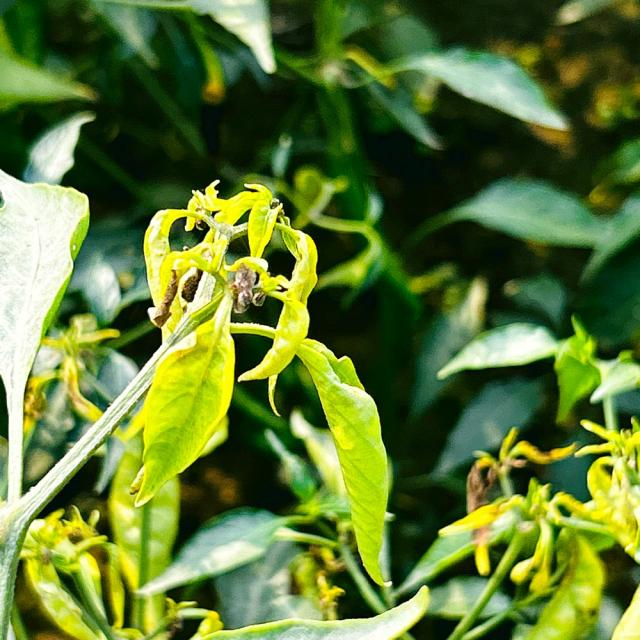Chilli_Leaf_Curl: (2, 2, 637, 637), (122, 178, 393, 588), (0, 167, 91, 638), (294, 336, 392, 587), (125, 290, 237, 508)
